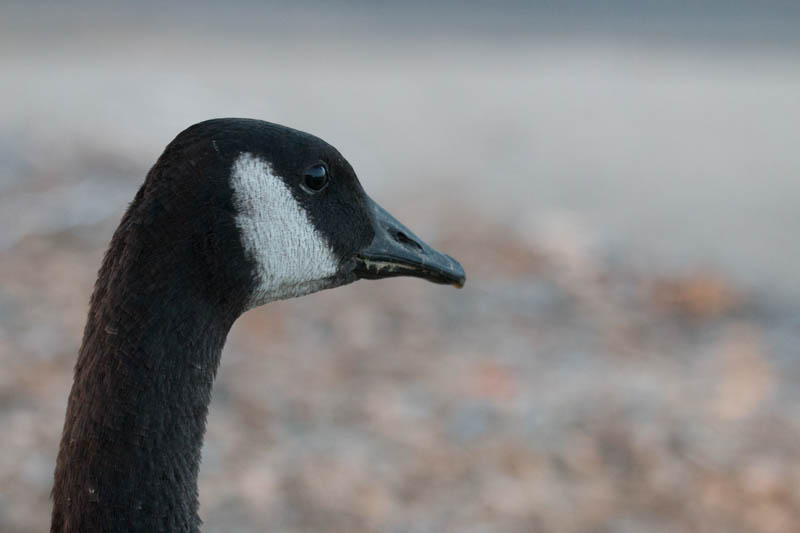goose-head: (109, 117, 467, 313)
